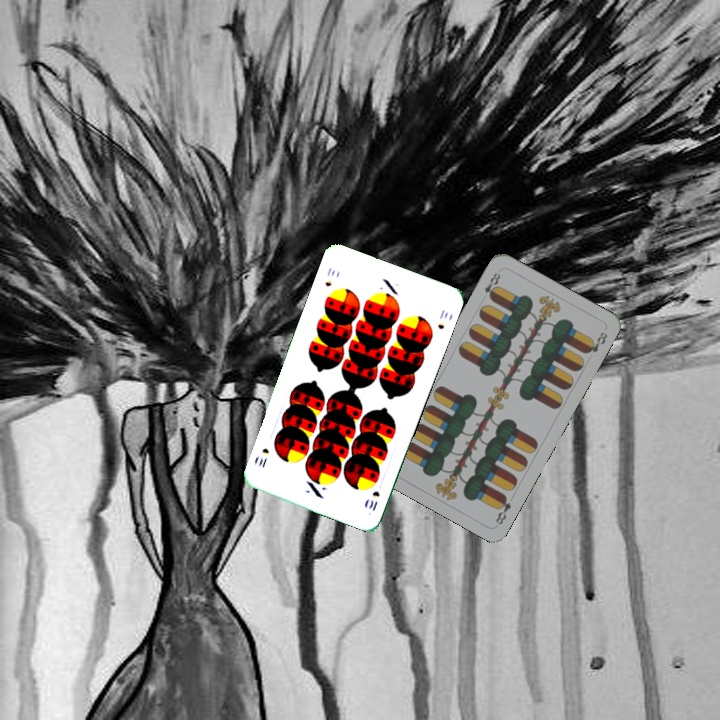E8: (491, 491, 514, 527), (480, 268, 503, 302)
S10: (365, 487, 382, 514), (321, 263, 338, 289)
